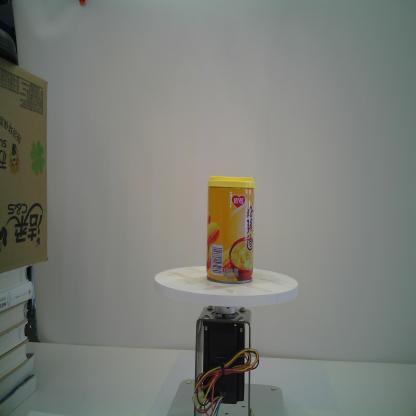Canned Food: (205, 174, 256, 288)
